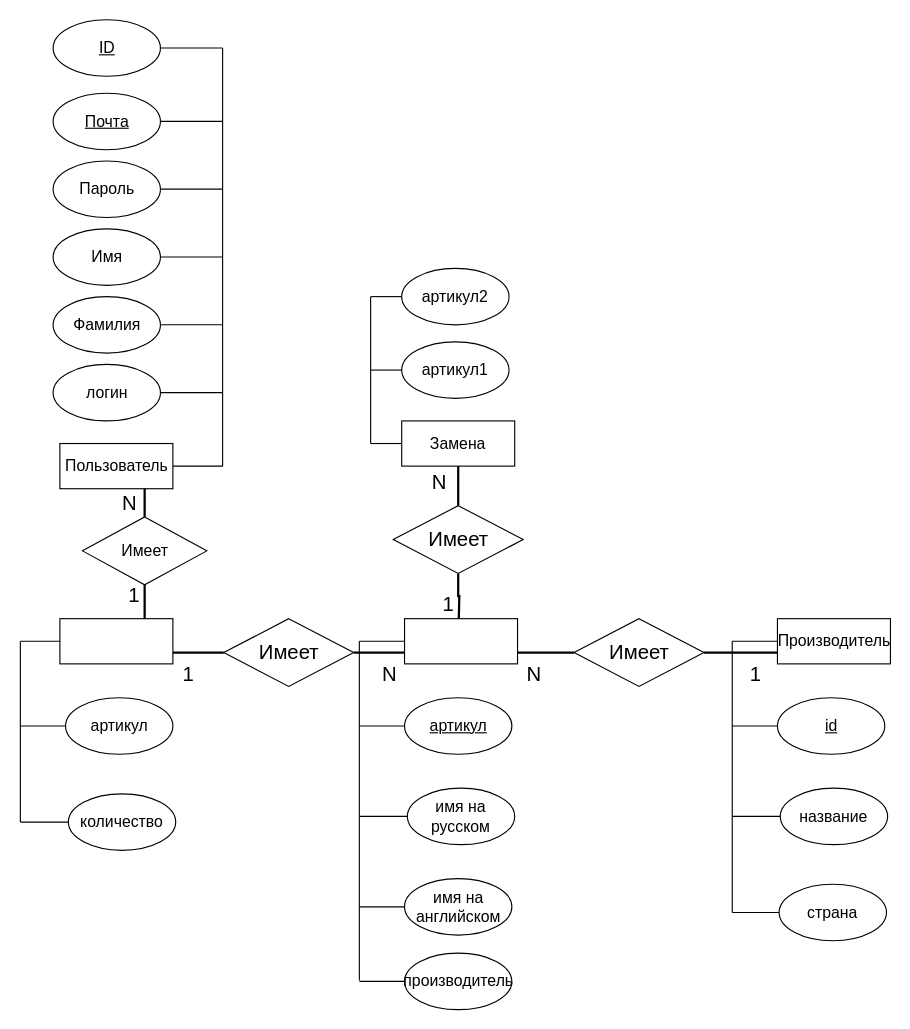
This 910x1029 diagram has some shape labels left out. Each missing label, with the box of its shape:
Деталь: (403, 618, 518, 664)
Склад: (59, 618, 173, 664)
